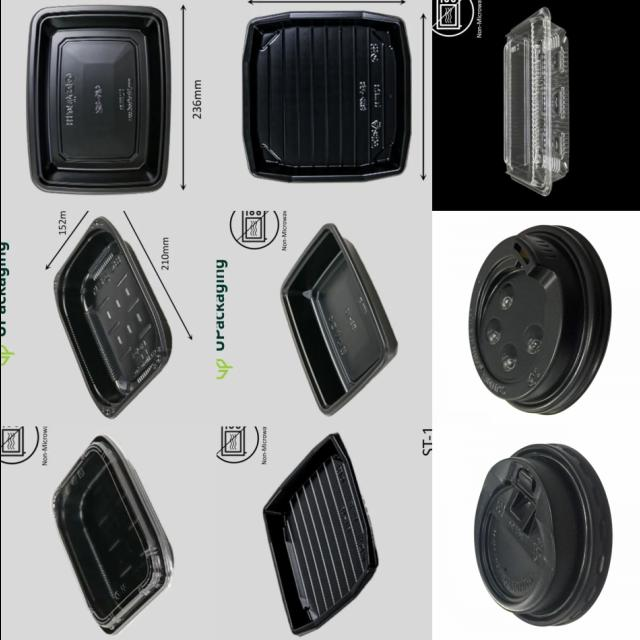plastik: (243, 12, 409, 182), (467, 225, 609, 415), (27, 5, 169, 194), (474, 444, 611, 627), (52, 436, 172, 634), (53, 218, 170, 417), (263, 434, 376, 636), (280, 224, 395, 416), (503, 8, 568, 196)
